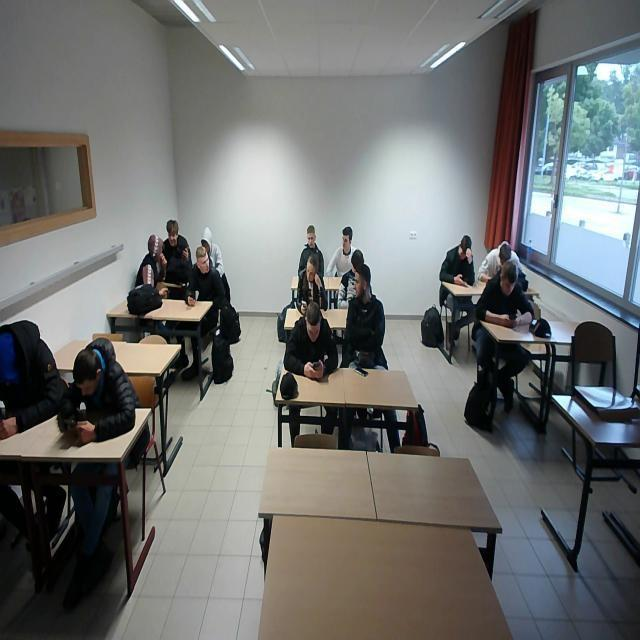phone_use: (60, 338, 134, 440), (284, 301, 336, 377), (475, 260, 532, 326), (185, 248, 224, 308), (438, 234, 473, 283), (296, 255, 326, 311)
